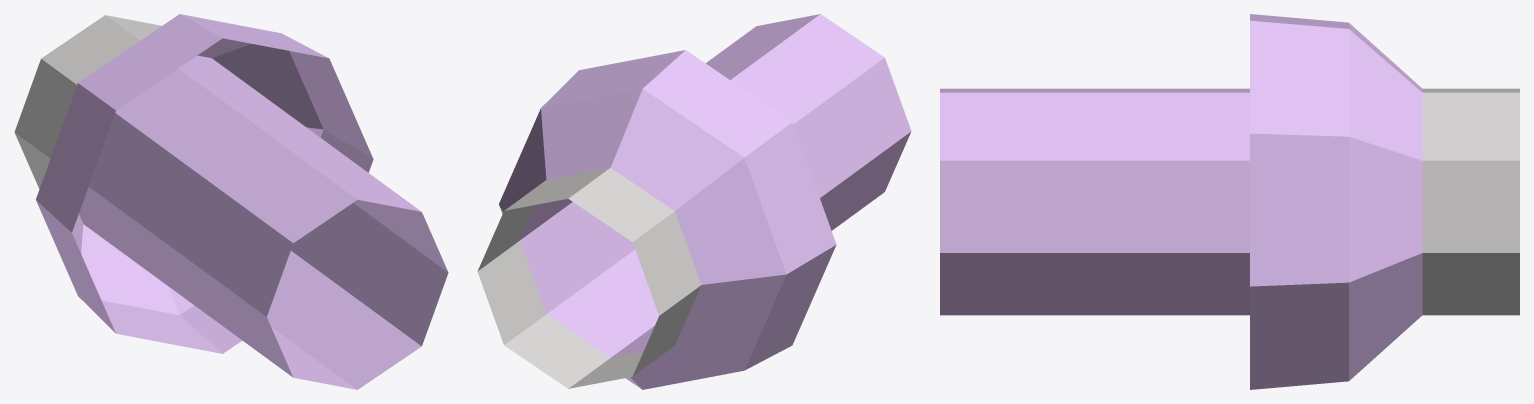
3 renders of one model, left to right at view 1: azimuth 30°, elevation 25°; view 2: azimuth 150°, elevation 25°; view 3: azimuth 270°, elevation 25°, orthographic. The views are drawn at different scales.
Parts seen in each view (by area): view 1: Object09; view 2: Object09; view 3: Object09.
Boxes of the visible parts, left/top/right/bottom form: Object09: left=14, top=14, right=448, bottom=389; Object09: left=477, top=14, right=911, bottom=389; Object09: left=940, top=14, right=1519, bottom=389.
Size of the model in its own units: 16180 by 16180 by 23442.
